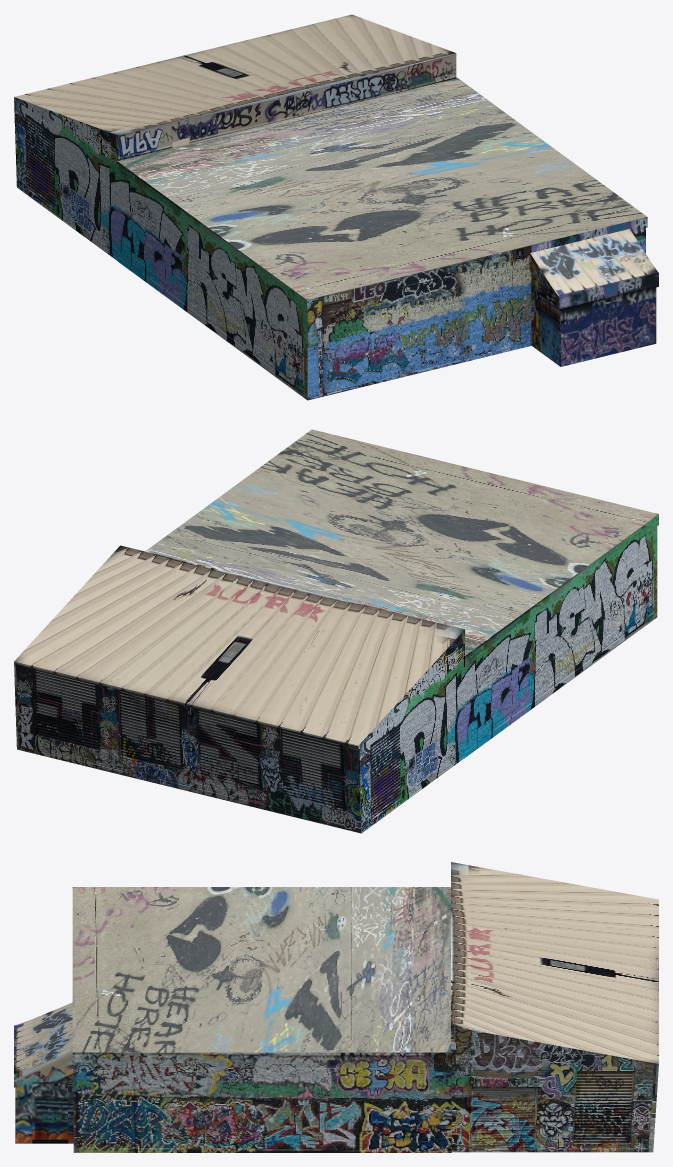
File: Building1.fbx
3 renders of one model, top to bottom at view 1: azimuth 30°, elevation 25°; view 2: azimuth 150°, elevation 25°; view 3: azimuth 270°, elevation 25°, orthographic. The views are drawn at different scales.
Visible parts, largest first — view 1: Building1_Middle, Building1_back, Building1_front; view 2: Building1_back, Building1_Middle; view 3: Building1_Middle, Building1_back, Building1_front.
Part boxes in pixels (bbox=[...]): Building1_Middle: bbox=[116, 77, 647, 400]; Building1_back: bbox=[14, 14, 456, 261]; Building1_front: bbox=[529, 228, 658, 366]; Building1_back: bbox=[14, 545, 464, 833]; Building1_Middle: bbox=[145, 429, 658, 758]; Building1_Middle: bbox=[72, 887, 452, 1152]; Building1_back: bbox=[451, 862, 658, 1152]; Building1_front: bbox=[14, 1002, 73, 1143].
Size of the model in its own units: 281 by 99.63 by 462.
Materials: 3 (3 with a texture image).
